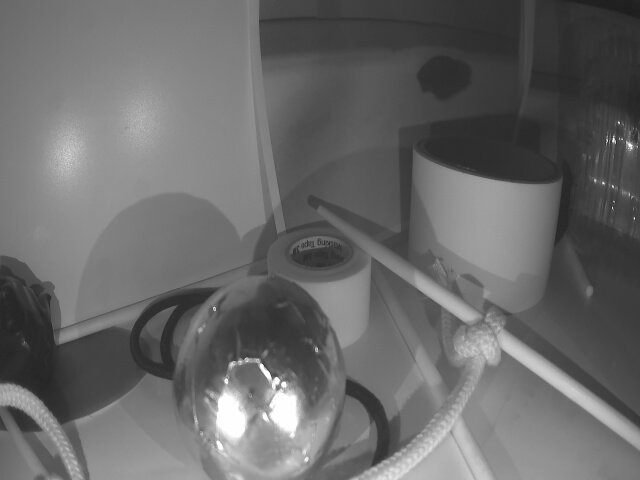Dead: (0, 261, 56, 408)
Live: (178, 281, 345, 480)
